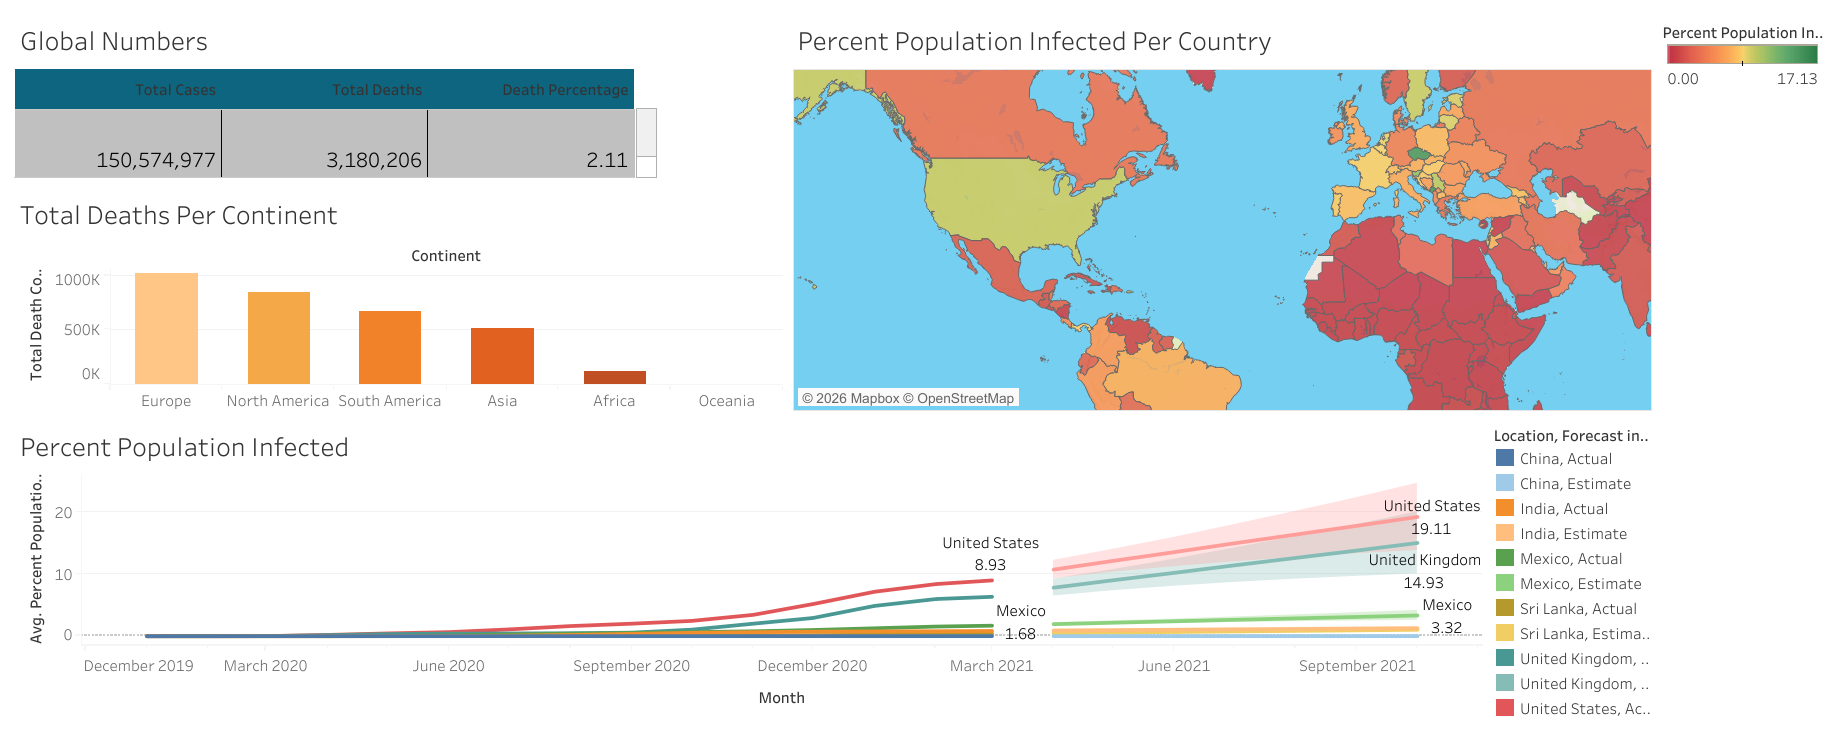

Layout of this report page (visuals, bound fields, positions):
{"tool":"tableau","page":{"name":"Dashboard 1","canvas":[1000,1000],"units":"permille","ordinal":0},"visuals":[{"type":"worksheet","title":"Sheet 1","mark":"Automatic","box":[4.7,10,423.7,239.7]},{"type":"worksheet","title":"Sheet 3","mark":"Automatic","box":[428.5,10,473.2,559.3]},{"type":"legend","title":"Sheet 3","param":"[federated.1cv7l8o1xhk82f18kd0m50bgltnv].[sum:PercentPopulationInfected:qk]","box":[901.7,10,93.5,980]},{"type":"worksheet","title":"Sheet 2","mark":"Automatic","rows":["TotalDeathCount"],"cols":["location"],"box":[4.7,249.7,423.7,319.6]},{"type":"worksheet","title":"Sheet 4","mark":"Automatic","rows":["PercentPopulationInfected"],"cols":["date"],"box":[4.7,569.3,804.8,420.7]},{"type":"legend","title":"Sheet 4","param":"[federated.1o82ovh0lr2kg019tztdj1g9rizf].[none:Location:nk]\n[federated.1o82ovh0l","box":[809.6,569.3,92.2,420.7]}]}

Visuals, with their boxes on the dashboard's canvas, which has no fixed pixel size, in thousandths of its width and height (x1, y1, x2, y2). These are canvas units, not pixel positions in the 1838x730 screenshot, which may show the page scaled, cropped or inside an application window:
"Sheet 1" worksheet: (x1=5, y1=10, x2=428, y2=250)
"Sheet 3" worksheet: (x1=428, y1=10, x2=902, y2=569)
"Sheet 3" legend: (x1=902, y1=10, x2=995, y2=990)
"Sheet 2" worksheet: (x1=5, y1=250, x2=428, y2=569)
"Sheet 4" worksheet: (x1=5, y1=569, x2=810, y2=990)
"Sheet 4" legend: (x1=810, y1=569, x2=902, y2=990)
